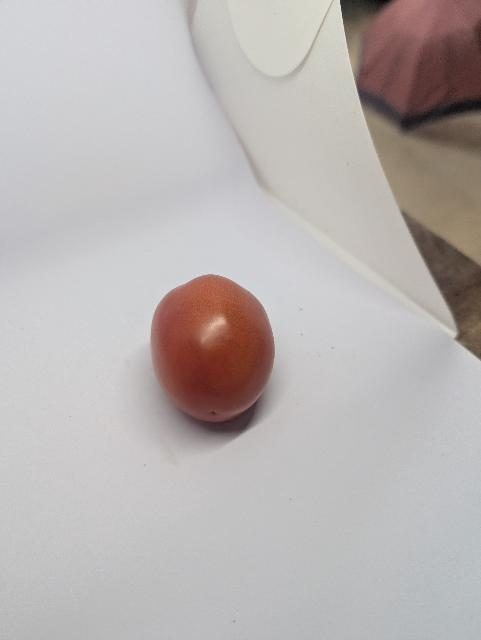red: (146, 269, 280, 444)
